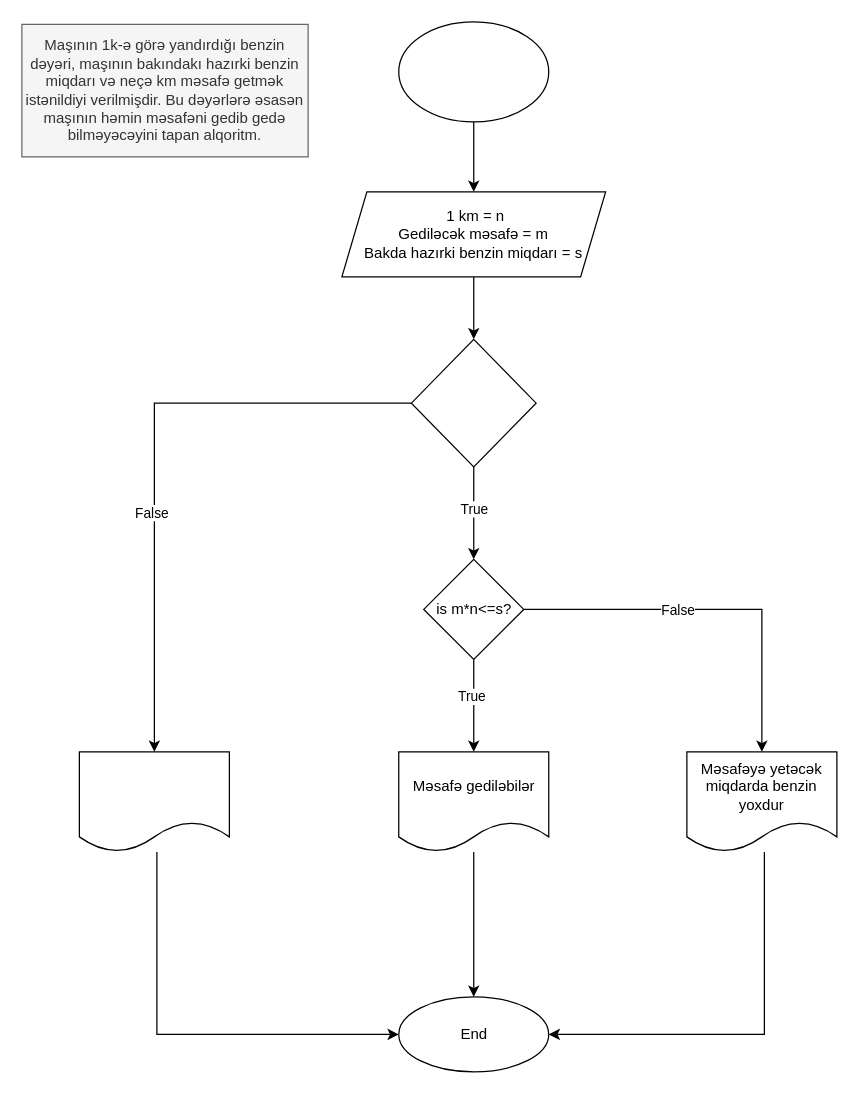
Some shapes in this 859 by 1094 pixel diagram are drawn without their labels. The centre of each missing label's shape, as x and y in pixels:
is n>0 && m>0 && s>0?: the point at 473,402
Start: the point at 473,71
Yazılan dəyərlər müsbət olmalıdır: the point at 153,801
